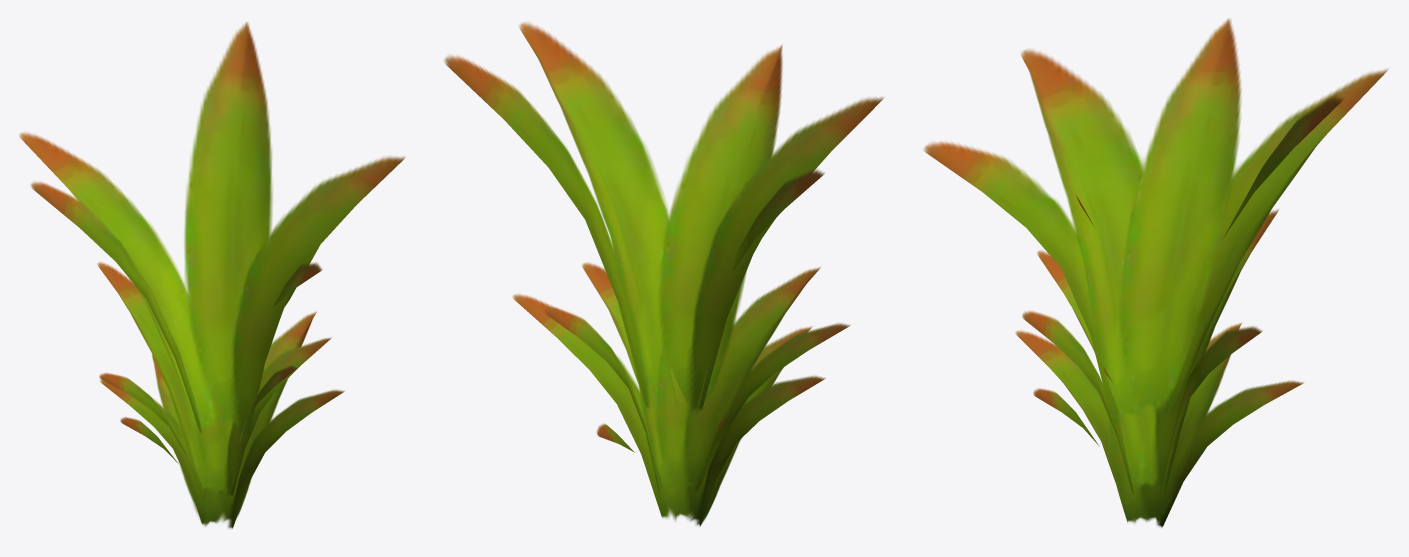
The model's file is PlantBig_1.glb.
3 renders of one model, left to right at view 1: azimuth 30°, elevation 25°; view 2: azimuth 150°, elevation 25°; view 3: azimuth 270°, elevation 25°, orthographic. The views are drawn at different scales.
Parts seen in each view (by area): view 1: Plant_1_Big; view 2: Plant_1_Big; view 3: Plant_1_Big.
Boxes of the visible parts, x1=… form: Plant_1_Big: x1=19, y1=22, x2=405, y2=528; Plant_1_Big: x1=444, y1=22, x2=883, y2=526; Plant_1_Big: x1=923, y1=18, x2=1388, y2=527.
Size of the model in its own units: 2.89 by 3.76 by 3.13.
Materials: 1 (1 with a texture image).
